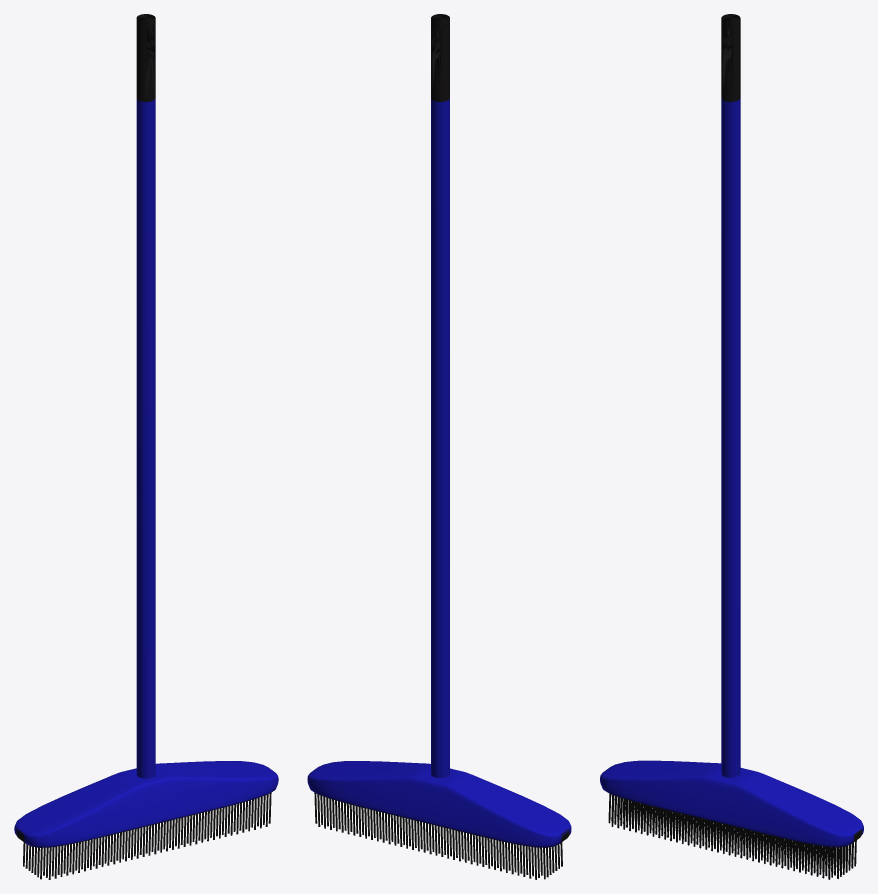
File: Escoba.obj
3 renders of one model, left to right at view 1: azimuth 30°, elevation 25°; view 2: azimuth 150°, elevation 25°; view 3: azimuth 330°, elevation 25°, orthographic.
Parts seen in each view (by area): view 1: broom; view 2: broom; view 3: broom.
Boxes of the visible parts, <box> form: broom: <box>14,14,278,879</box>; broom: <box>307,14,571,879</box>; broom: <box>600,14,863,879</box>.
Size of the model in its own units: 2.47 by 7.75 by 0.5363.
1 material, 1 textured.
